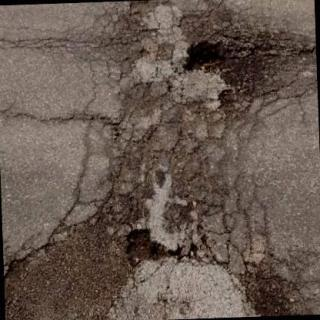pothole: (127, 229, 181, 268), (183, 41, 225, 72)
